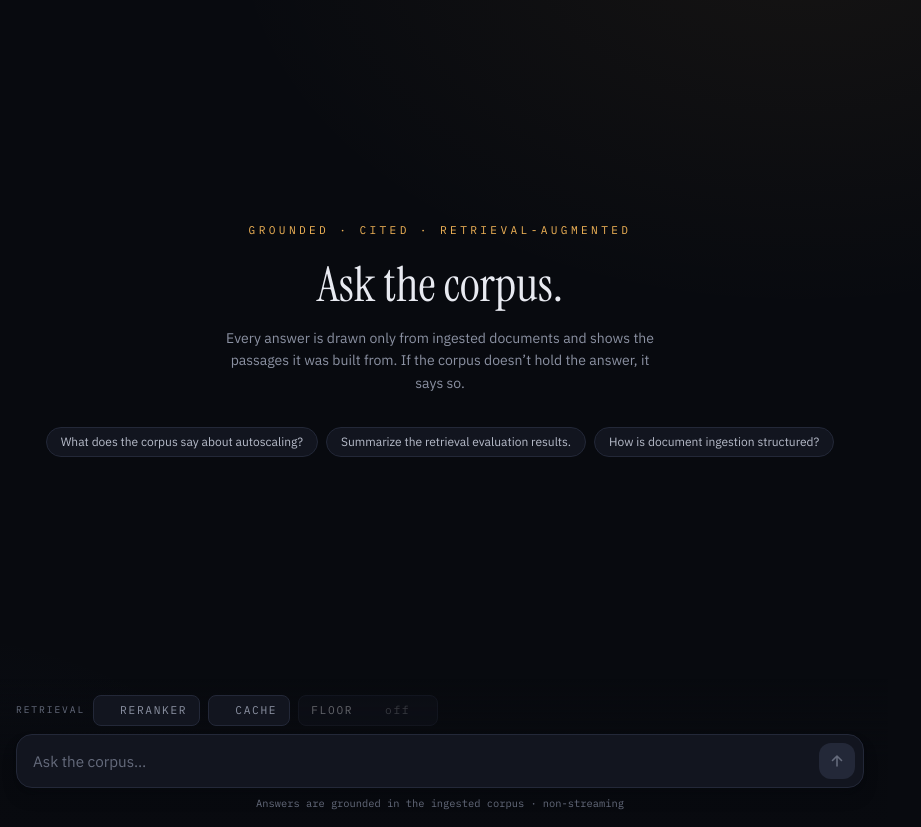
ChatPage › shows a backend 400 detail inline instead of the answer
Type "hi" into the text box named "Ask a question" at (418, 761), box [25,743,811,779]
Then press Enter
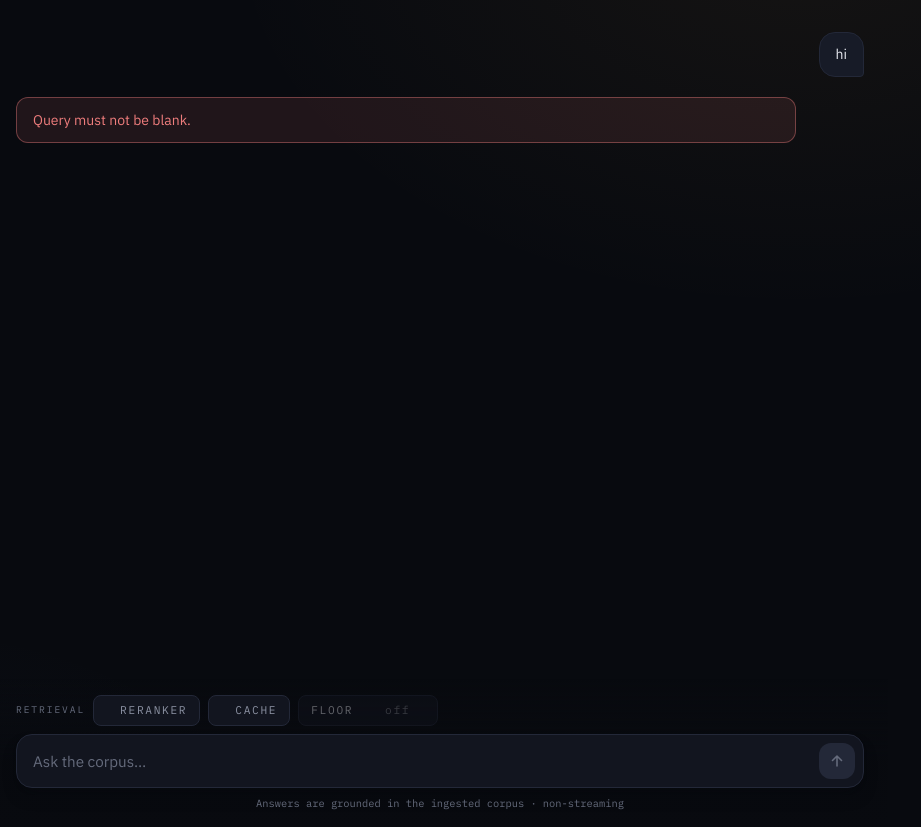
Expected: the text "Query must not be blank." is shown, [16,97,796,143]
